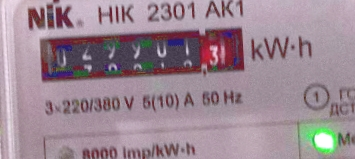0: (153, 34, 169, 60), (52, 45, 68, 68)
1: (180, 33, 193, 57)
2: (78, 39, 94, 62)
3: (205, 43, 222, 67)
9: (129, 37, 142, 61), (104, 38, 117, 59)
screen: (30, 18, 254, 92)
